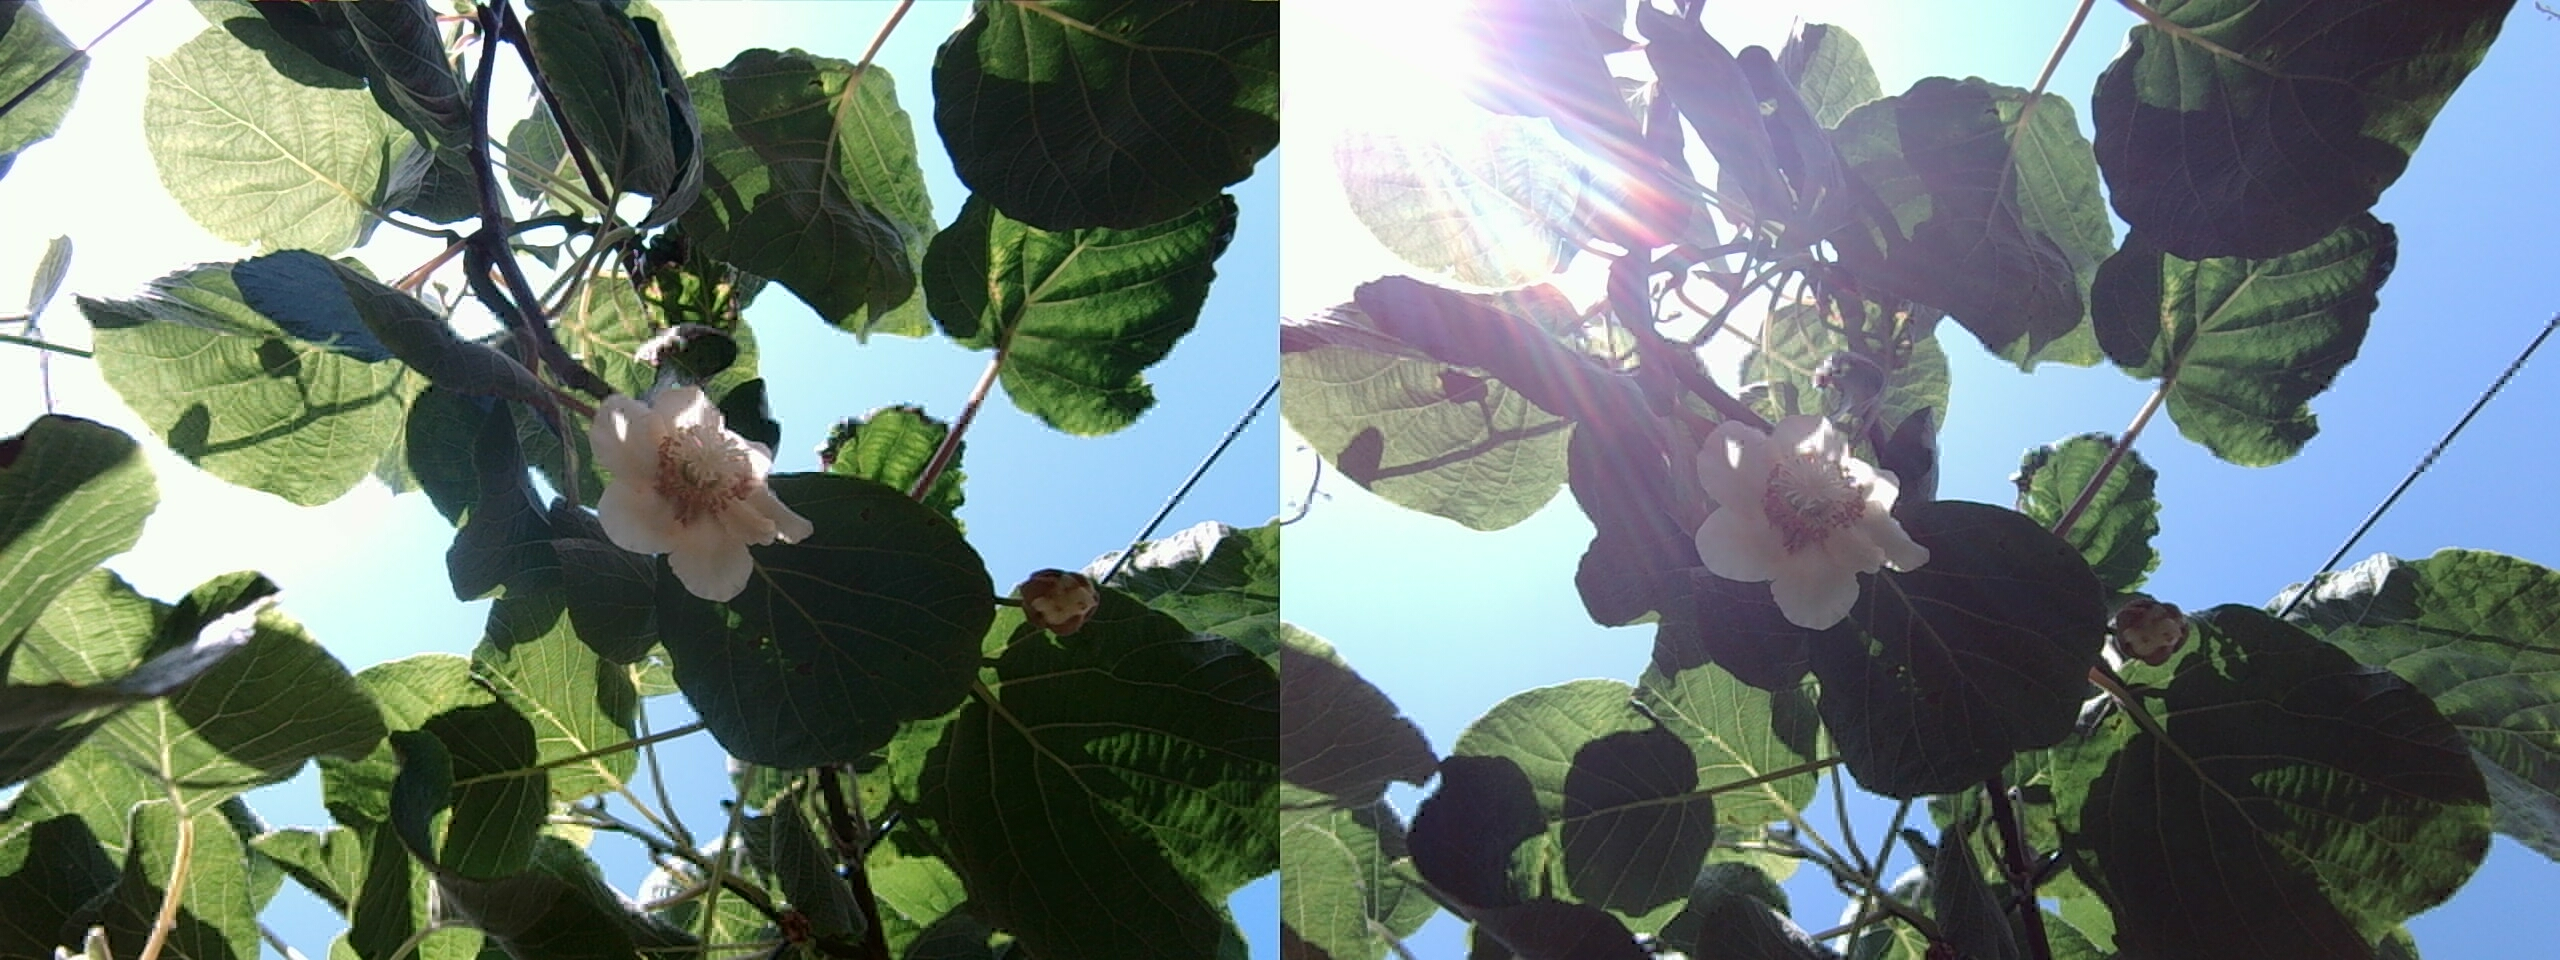flower: (1683, 398, 1918, 624), (584, 379, 802, 593)
